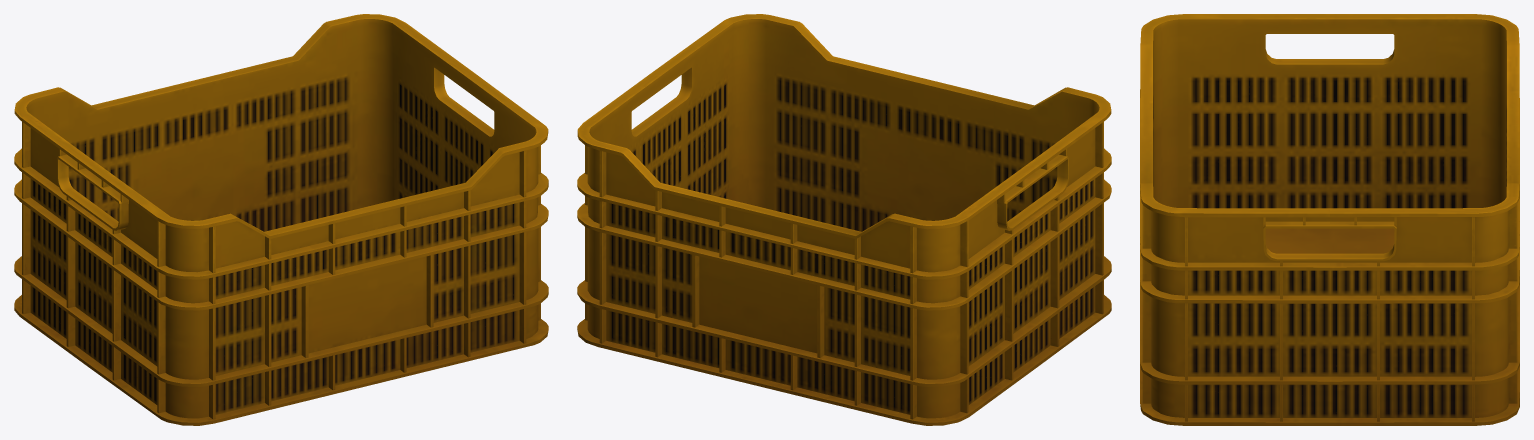
Rendered from crate_plastic_yellow.glb.
3 views of the same model, side by side, from view 1: azimuth 30°, elevation 25°; view 2: azimuth 150°, elevation 25°; view 3: azimuth 270°, elevation 25° (orthographic). The views are drawn at different scales.
Visible parts, largest first — view 1: crate_plastic_yellow; view 2: crate_plastic_yellow; view 3: crate_plastic_yellow.
Part boxes in pixels (x1,y1,x2,y2): crate_plastic_yellow: (14, 14, 548, 425); crate_plastic_yellow: (577, 14, 1111, 425); crate_plastic_yellow: (1140, 14, 1519, 425).
Size of the model in its own units: 0.5055 by 0.2541 by 0.4055.
1 material, 1 textured.
